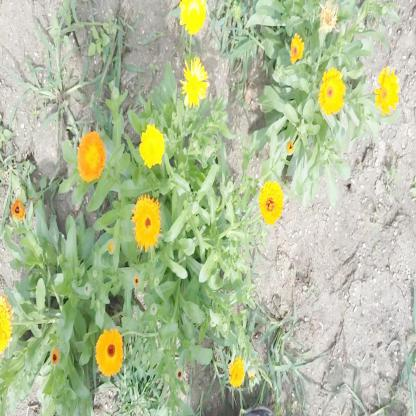marigold: (130, 195, 159, 251), (182, 54, 208, 107), (320, 67, 346, 116), (376, 65, 400, 116), (96, 328, 122, 374), (77, 134, 103, 180), (260, 180, 284, 228), (181, 0, 205, 34), (140, 126, 162, 163), (228, 355, 247, 389)
